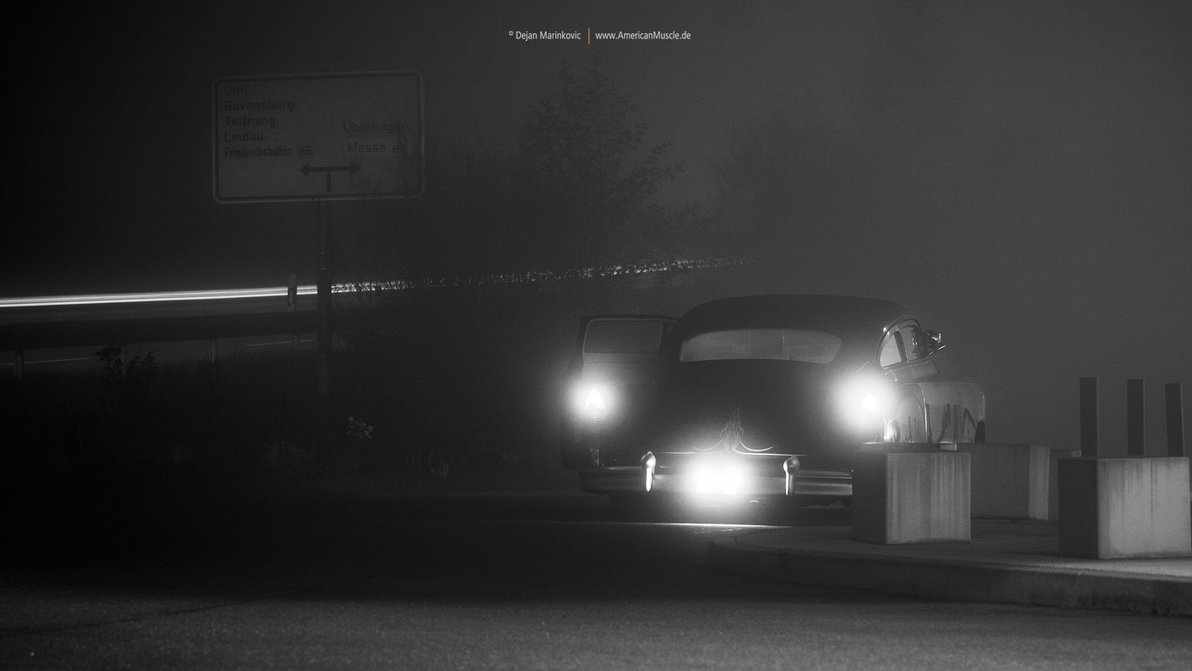car: (552, 289, 1005, 529)
